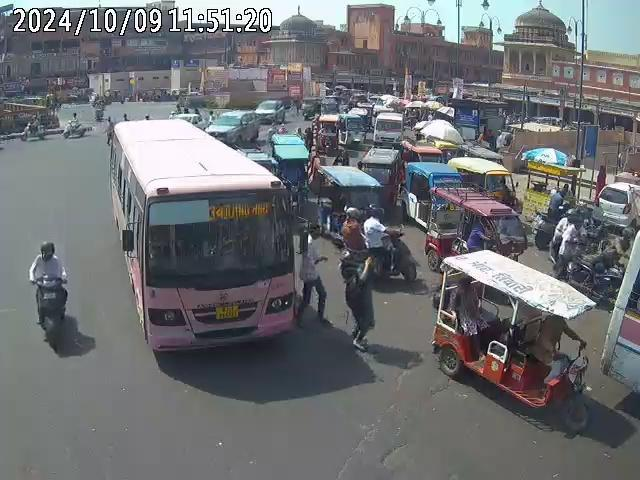auto: (428, 249, 595, 433), (424, 185, 528, 271), (312, 163, 384, 230), (266, 132, 312, 203), (595, 181, 639, 232)
bus: (106, 116, 310, 358), (605, 208, 639, 433)
car: (203, 111, 260, 147), (253, 98, 288, 122)
helmet: (38, 239, 55, 259)
license_plate: (217, 304, 240, 321)
motorbike-rider: (547, 205, 627, 304), (26, 240, 70, 346), (361, 209, 413, 284), (63, 117, 86, 139)
scooty-rider: (19, 118, 46, 140)
